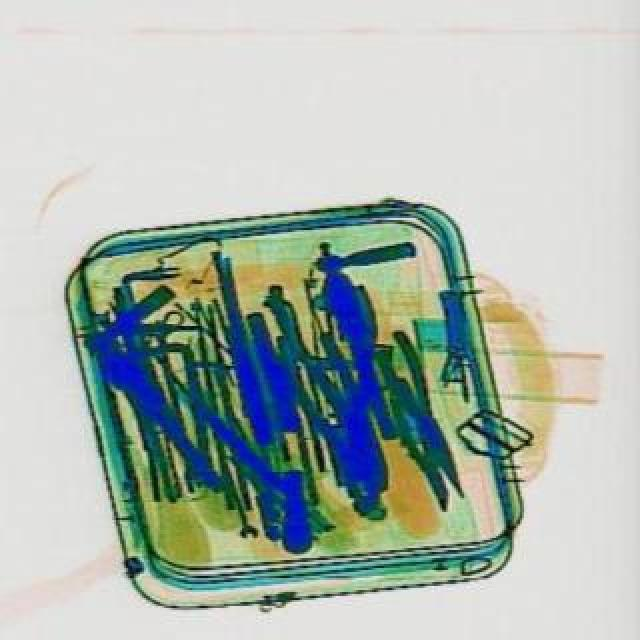scissors: (222, 472, 266, 546)
wrench: (272, 270, 426, 502), (280, 320, 400, 514), (370, 332, 470, 518)
